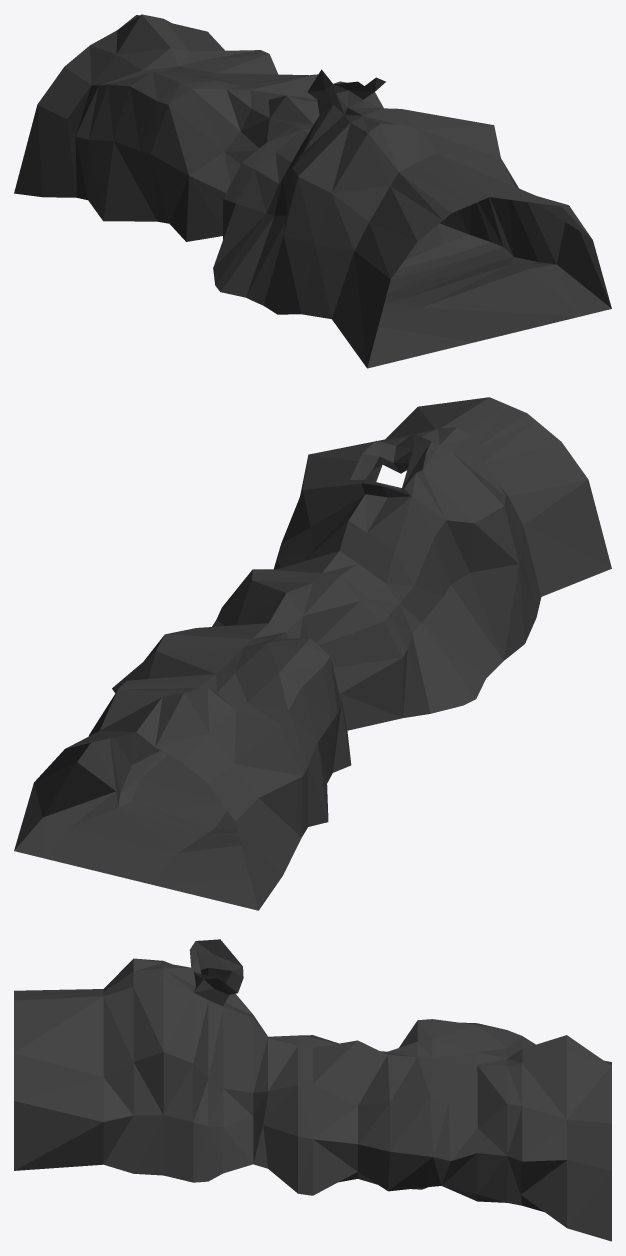
Rendered from Cave_6B_LOD_2.fbx.
The picture shows the model from 3 angles, top to bottom: view 1: azimuth 30°, elevation 25°; view 2: azimuth 150°, elevation 25°; view 3: azimuth 270°, elevation 25°; orthographic projection. The views are drawn at different scales.
Visible parts, largest first — view 1: polySurface1223; view 2: polySurface1223; view 3: polySurface1223.
Part boxes in pixels (x1=…): polySurface1223: x1=14, y1=14, x2=611, y2=368; polySurface1223: x1=14, y1=397, x2=611, y2=910; polySurface1223: x1=14, y1=939, x2=611, y2=1241.
Bounding box in the file's own units: 8.51 × 8.59 × 20.
